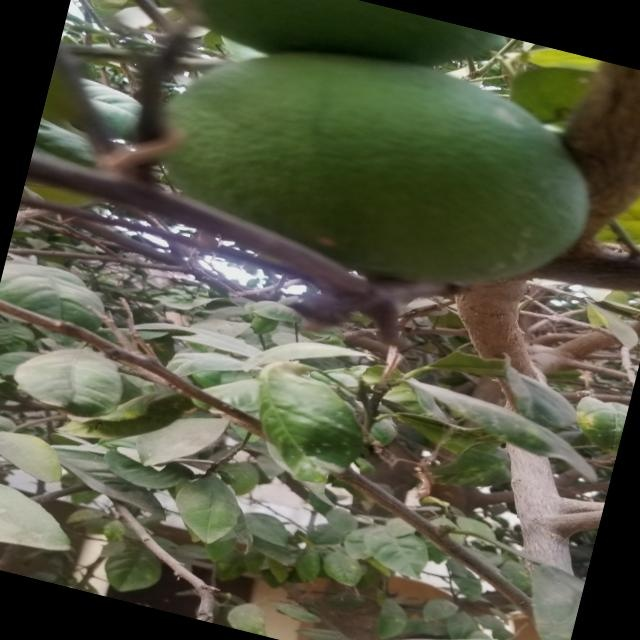agrume: (140, 13, 606, 320), (94, 0, 544, 119)
